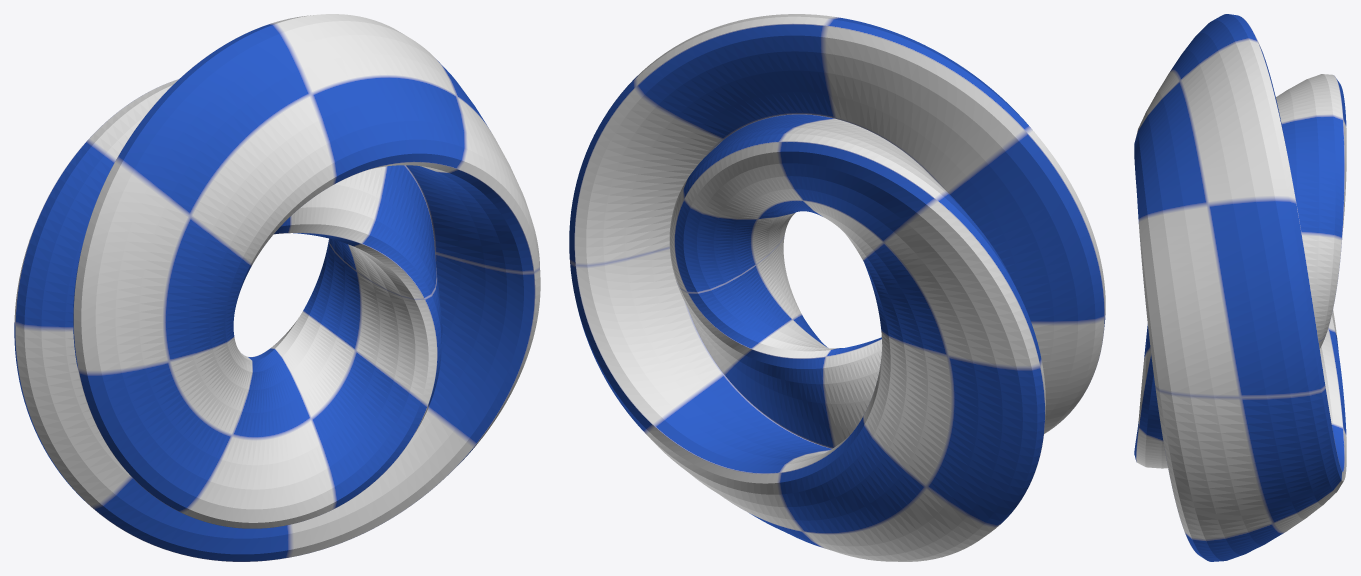
The model's file is klein_bottle.obj.
3 views of the same model, side by side, from view 1: azimuth 30°, elevation 25°; view 2: azimuth 150°, elevation 25°; view 3: azimuth 270°, elevation 25° (orthographic). The views are drawn at different scales.
Size of the model in its own units: 6.02 by 6.49 by 2.5.
Materials: 1 (1 with a texture image).
